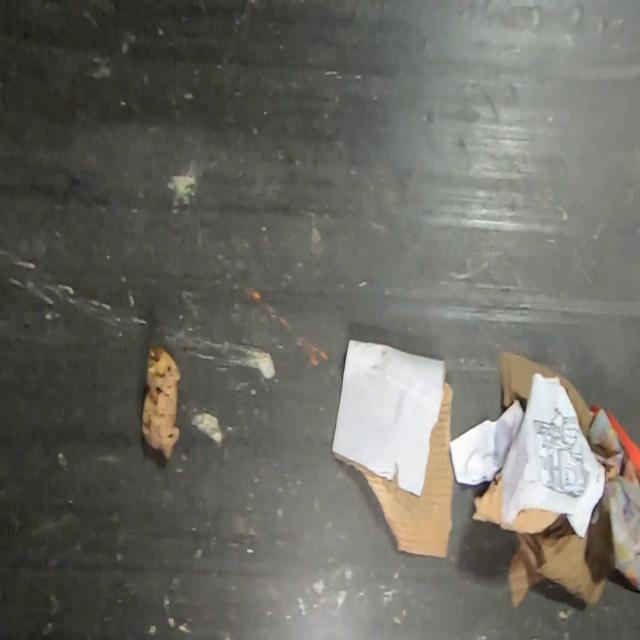cardboard: (331, 337, 455, 559), (507, 514, 609, 610), (499, 349, 599, 440), (472, 474, 562, 535)
